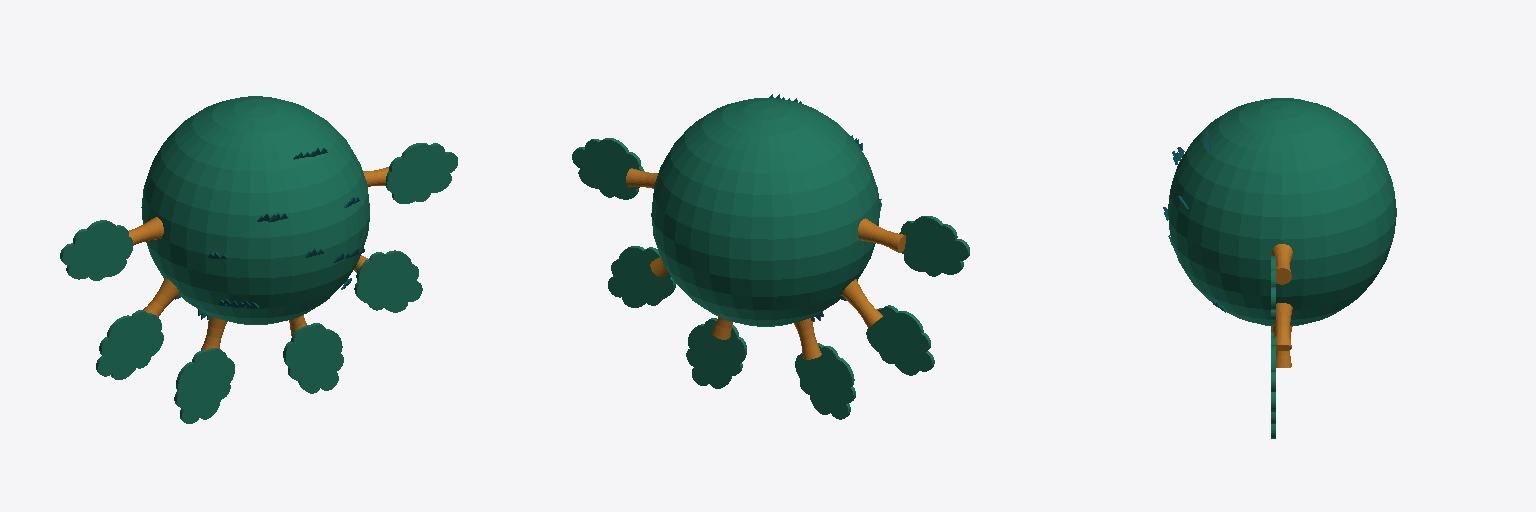
3 views of the same model, side by side, from view 1: azimuth 30°, elevation 25°; view 2: azimuth 150°, elevation 25°; view 3: azimuth 270°, elevation 25° (orthographic).
Visible parts, largest first — view 1: 立方体.001; view 2: 立方体.001; view 3: 立方体.001.
Part boxes in pixels (bbox=[...]): 立方体.001: bbox=[60, 96, 457, 423]; 立方体.001: bbox=[572, 94, 969, 419]; 立方体.001: bbox=[1163, 98, 1396, 438].
Size of the model in its own units: 10.22 by 7.31 by 5.23.
1 materials, 1 textured.